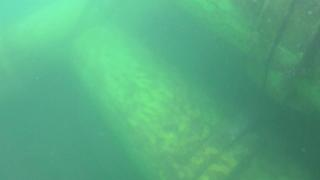pipe: (57, 19, 316, 180), (166, 1, 320, 117), (1, 1, 118, 67)
